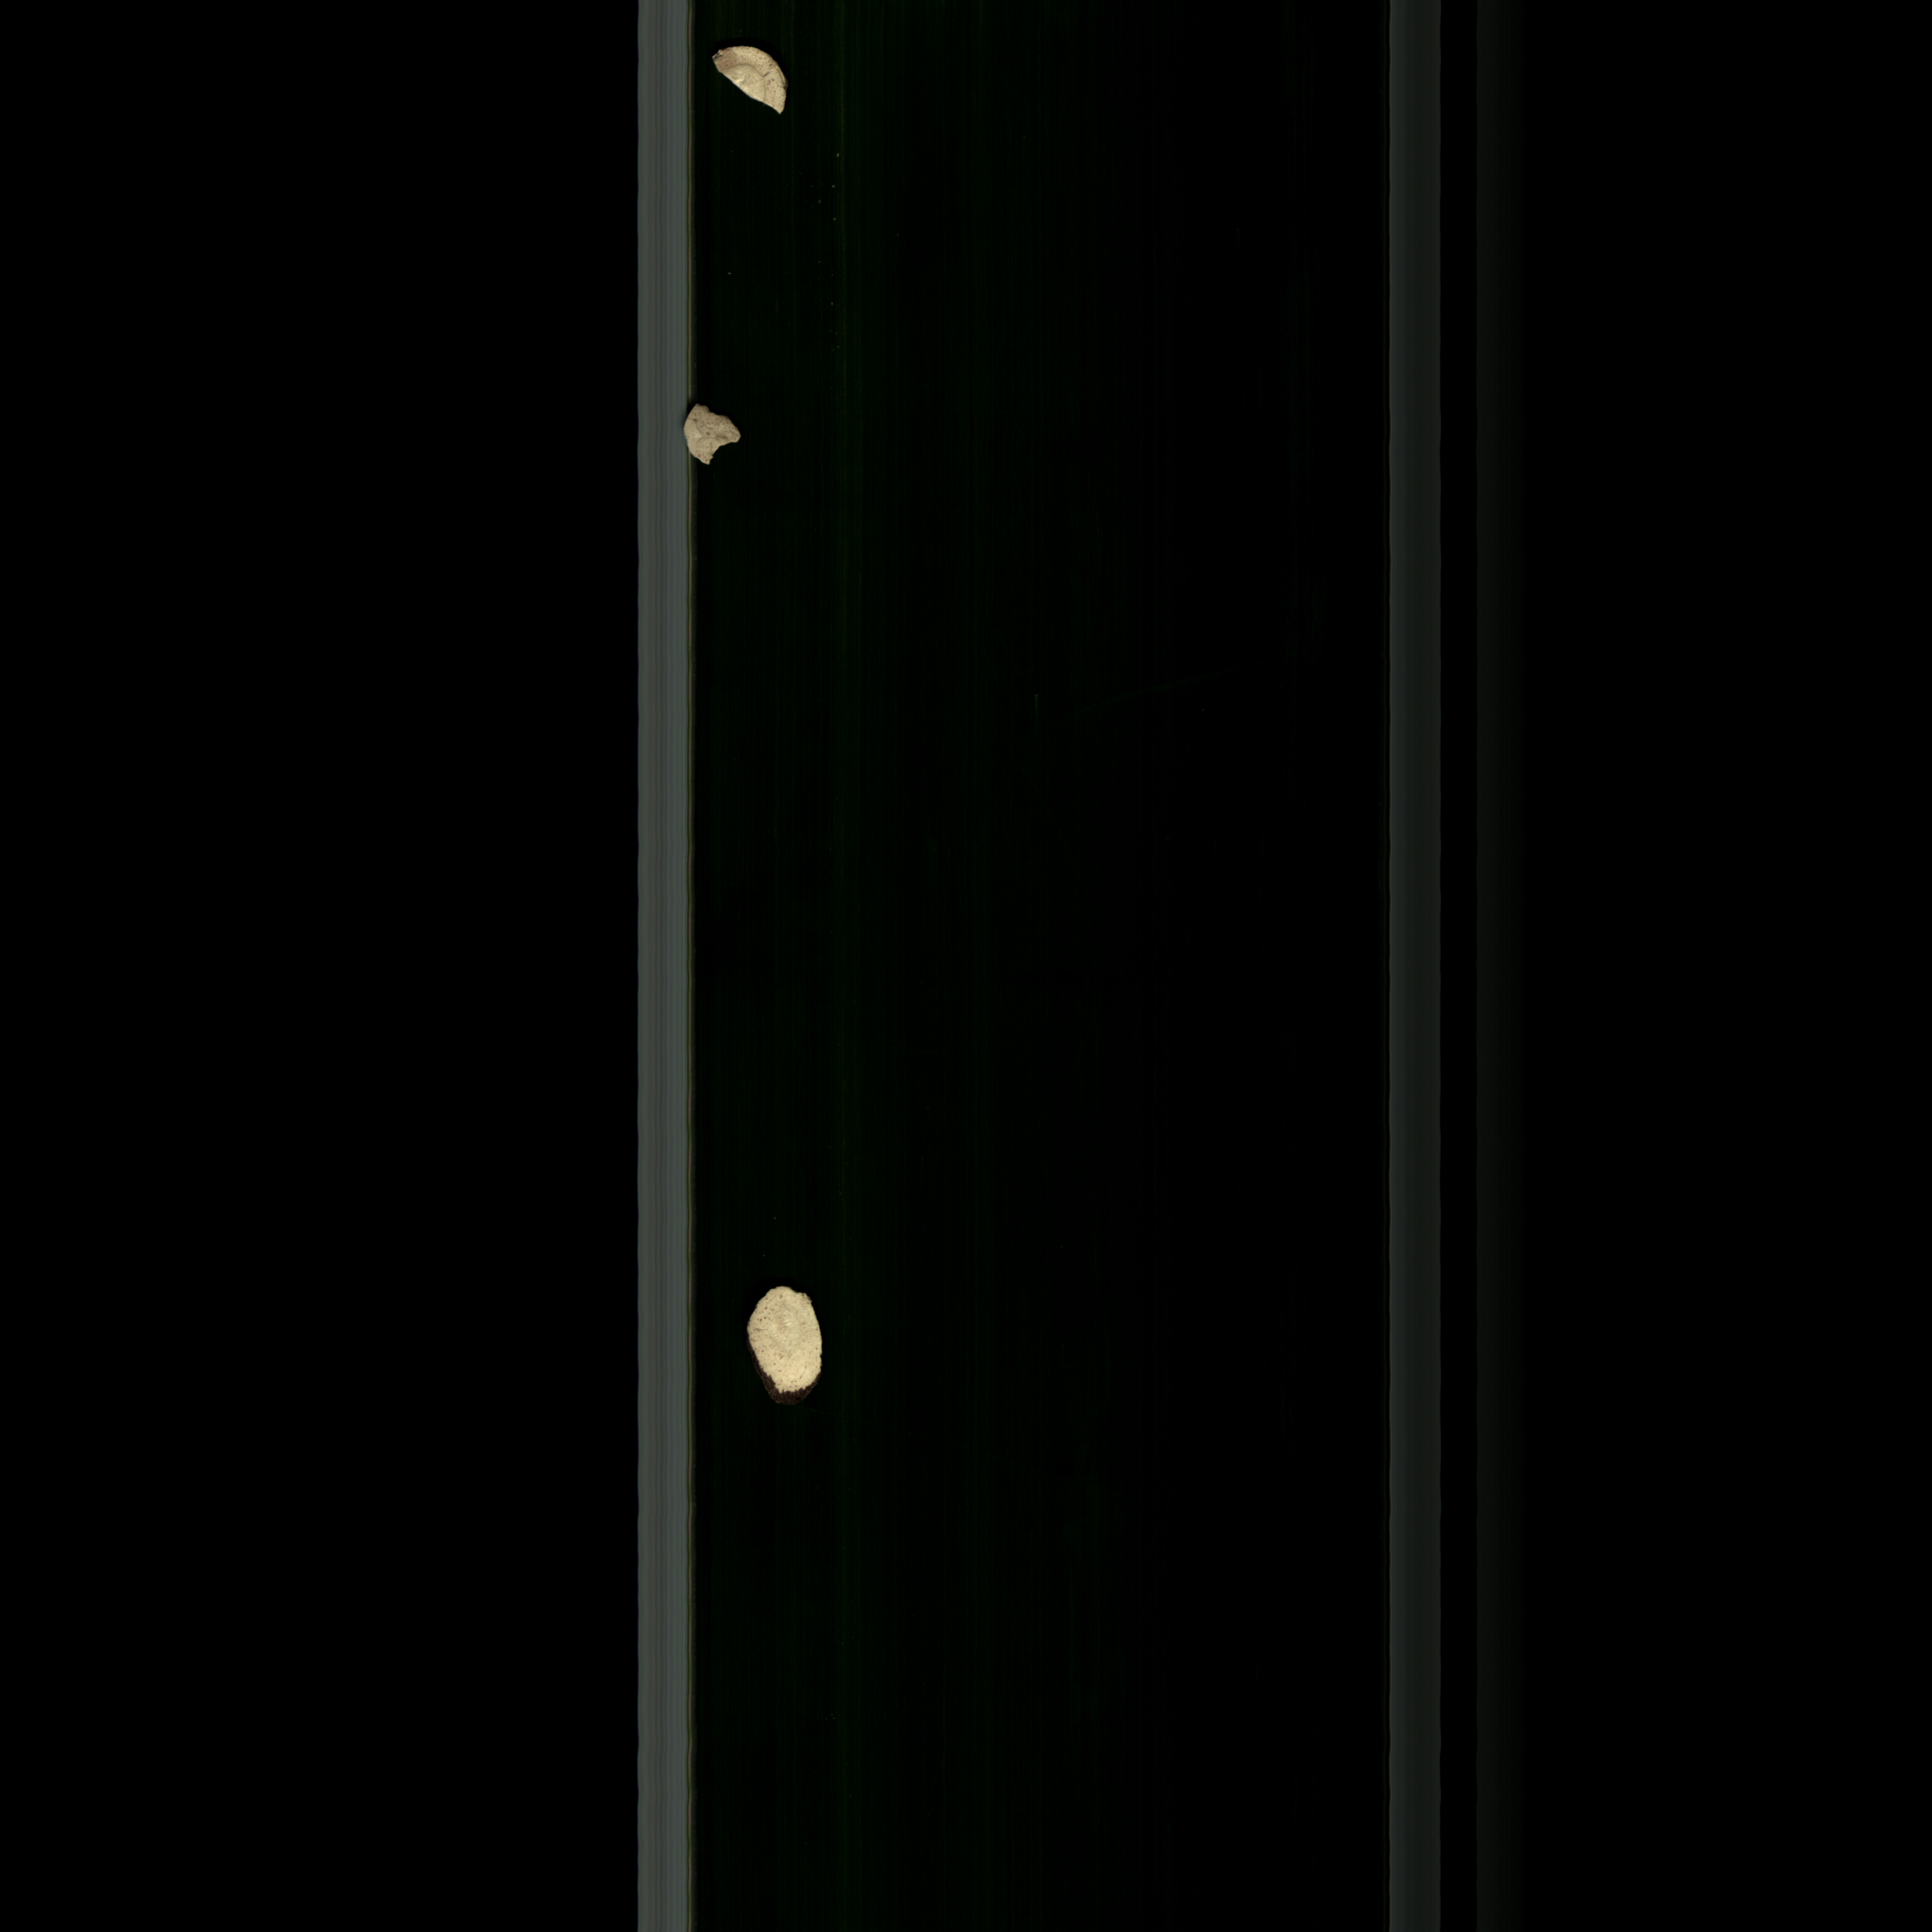debris: (745, 1281, 830, 1410), (695, 42, 801, 129)
dreg: (683, 400, 750, 481)
